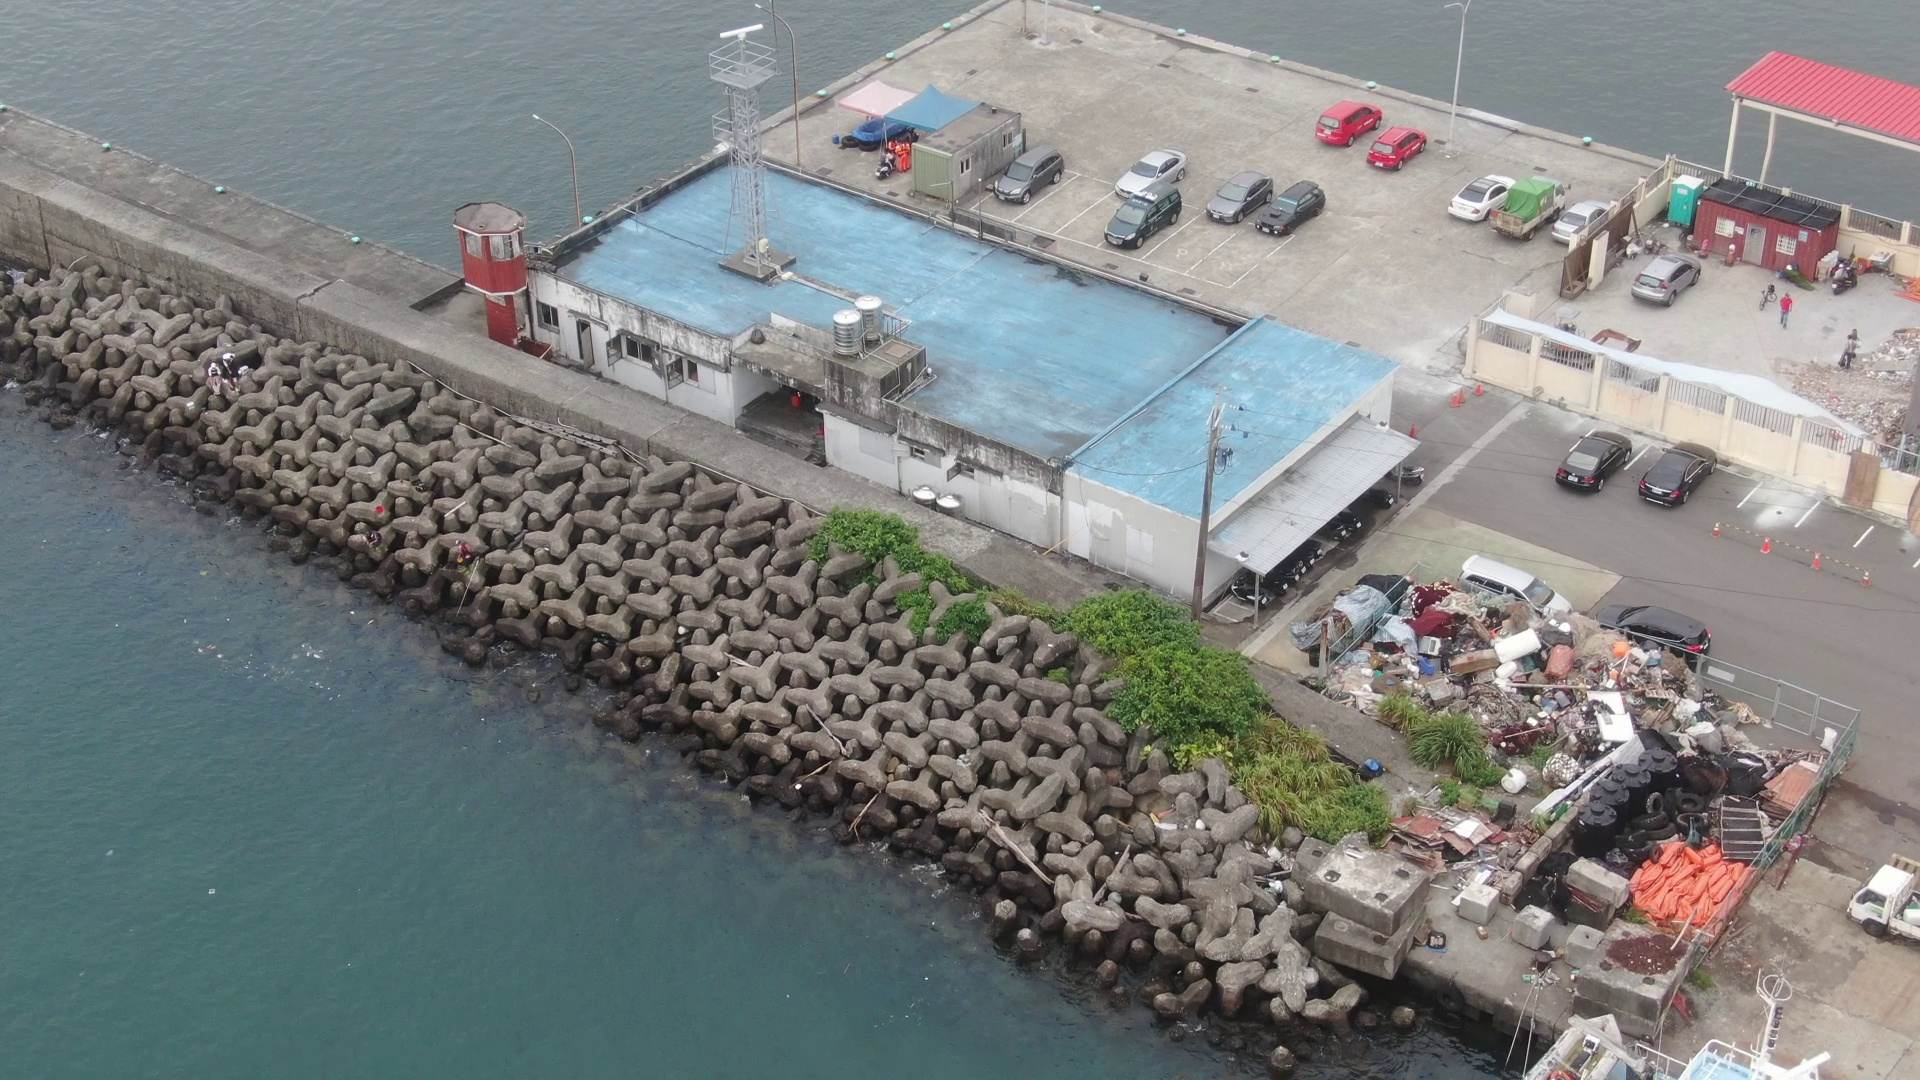garbage: (1356, 576, 1750, 935), (202, 352, 257, 400)
